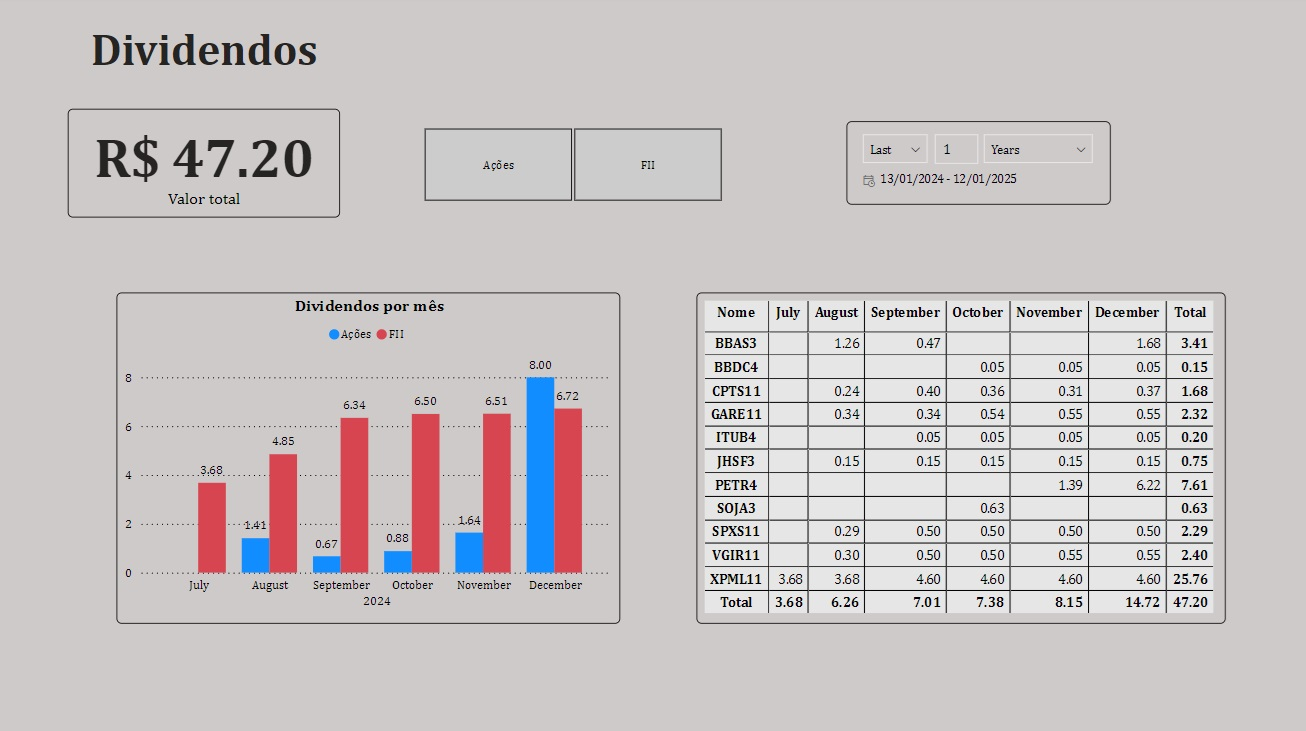

What the dashboard file says about the page in this screenshot:
{"tool":"powerbi","page":{"name":"Dividendos","canvas":[1280,720],"ordinal":1},"visuals":[{"type":"textbox","box":[11,23.2,379.1,61.1],"z":0},{"type":"slicer","fields":{"Values":["Proventos.Tipo"]},"box":[390.1,123.5,341.2,84.4],"z":1000},{"type":"slicer","fields":{"Values":["Proventos.Mes"]},"box":[829.1,123.5,258,81.9],"z":2000},{"type":"card","fields":{"Values":["Sum(Proventos.Valor_Div)"]},"box":[67.3,111.3,266.6,106.4],"z":3000},{"type":"clusteredColumnChart","title":"Dividendos por mês","fields":{"Y":["Sum(Proventos.Valor_Div)"],"Category":["Proventos.Mes.Variation.Date Hierarchy.Year","Proventos.Mes.Variation.Date Hierarchy.Month"],"Series":["Proventos.Tipo"]},"box":[114.9,291,492.8,324.1],"z":4000},{"type":"pivotTable","fields":{"Columns":["Proventos.Mes.Variation.Date Hierarchy.Year","Proventos.Mes.Variation.Date Hierarchy.Month"],"Values":["Sum(Proventos.Valor_Div)"],"Rows":["Proventos.Nome"]},"box":[682.3,291,517.3,324.1],"z":5000}]}

Visuals, with their boxes in screenshot pixels (x1, y1, x2, y2), scaled from the page's 1280x720 canvas onto the 1306x731 screenshot:
textbox: box(11, 24, 398, 86)
slicer - Proventos.Tipo: box(398, 125, 746, 211)
slicer - Proventos.Mes: box(846, 125, 1109, 209)
card - Sum(Proventos.Valor_Div): box(69, 113, 341, 221)
"Dividendos por mês" clusteredColumnChart: box(117, 295, 620, 624)
pivotTable - Proventos.Mes.Variation.Date Hierarchy.Year x Proventos.Mes.Variation.Date Hierarchy.Month: box(696, 295, 1224, 624)
